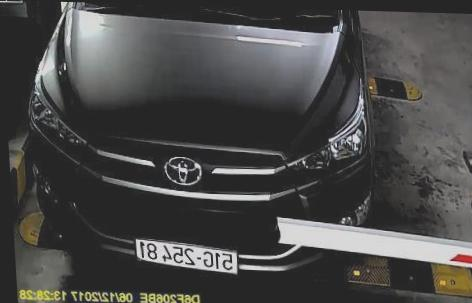License_Plate: (136, 236, 239, 275)
